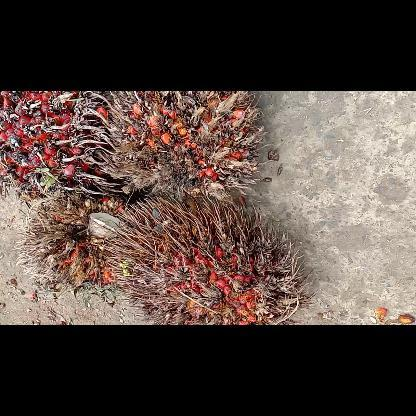Terlalu masak: (105, 202, 319, 324), (98, 90, 272, 206), (11, 186, 147, 302), (0, 91, 114, 203)
